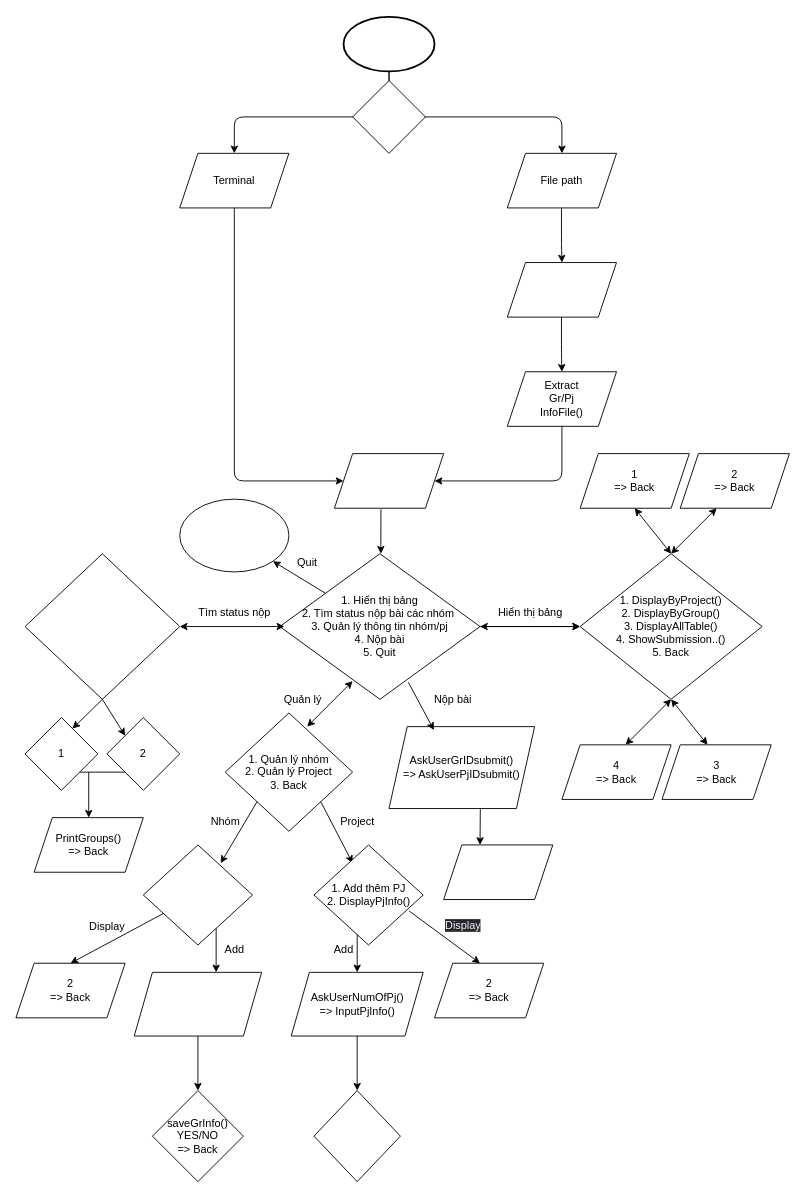
Some shapes in this 805 by 1198 pixel diagram are drawn without their labels. The shapes that lost their labels are listed below. From the top down, each one's centre as x and y in pixels, then its label:
At [388,43]: "Start".
At [388,116]: "AskUser".
At [561,289]: "AskUserFile Gr/Pj Directory()".
At [389,480]: "MENU".
At [234,535]: "quitProgram()".
At [102,626]: "1. Find...OnTime() 2. Find...NotOnTime() 3. Back".
At [498,872]: "submitProject() => Back".
At [197,894]: "1. Add thêm nhóm 2. DisplayGrInfo()".
At [197,1003]: "AskUserNumOfGr() => InputGrInfo()".
At [356,1136]: "savePjInfo() YES/NO => Back".
